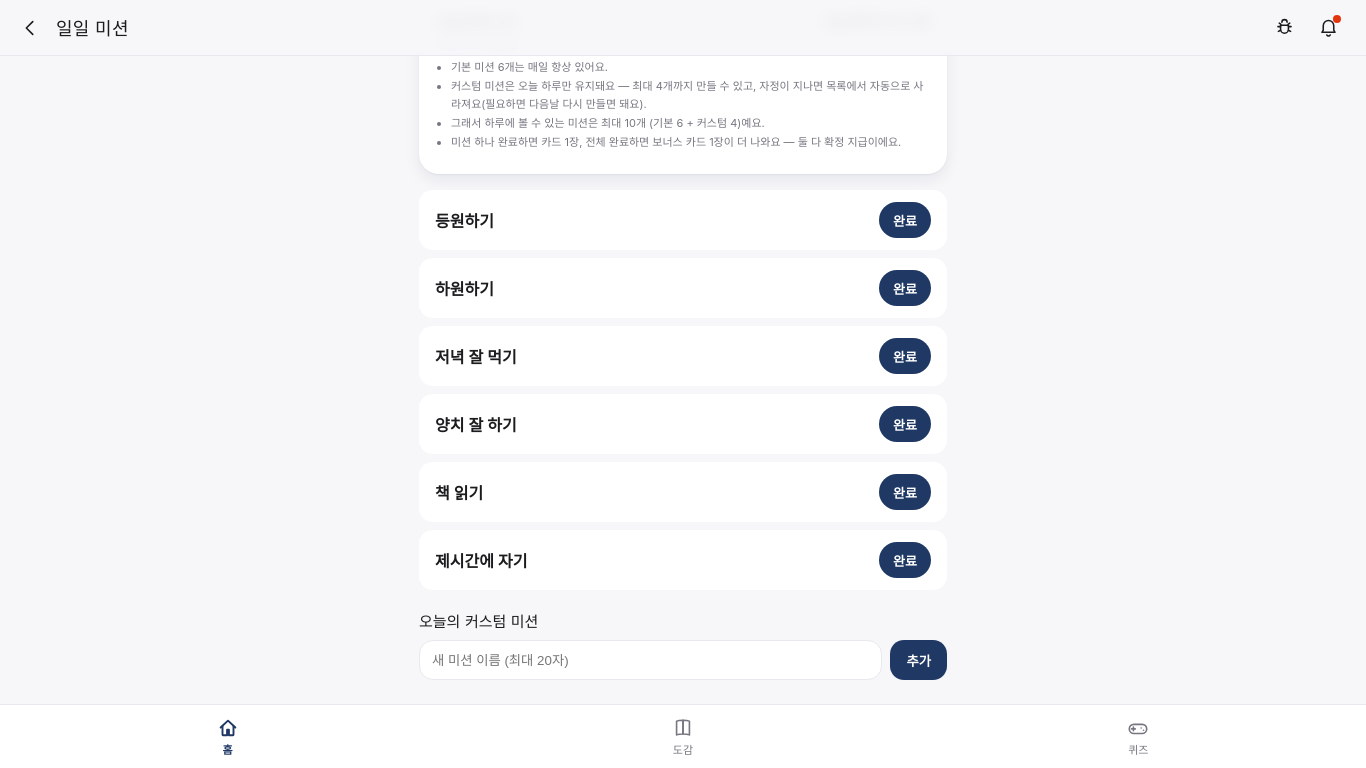
Test: DailyMission › 커스텀 미션을 추가하고 삭제할 수 있다
The image size is (1366, 768).
(page scrolled)
Expected: the text "등원하기" is shown, [435,211,494,231]
Type "숙제하기" into the field with placeholder "새 미션 이름 (최대 20자)" at (651,660), box [419,640,882,680]
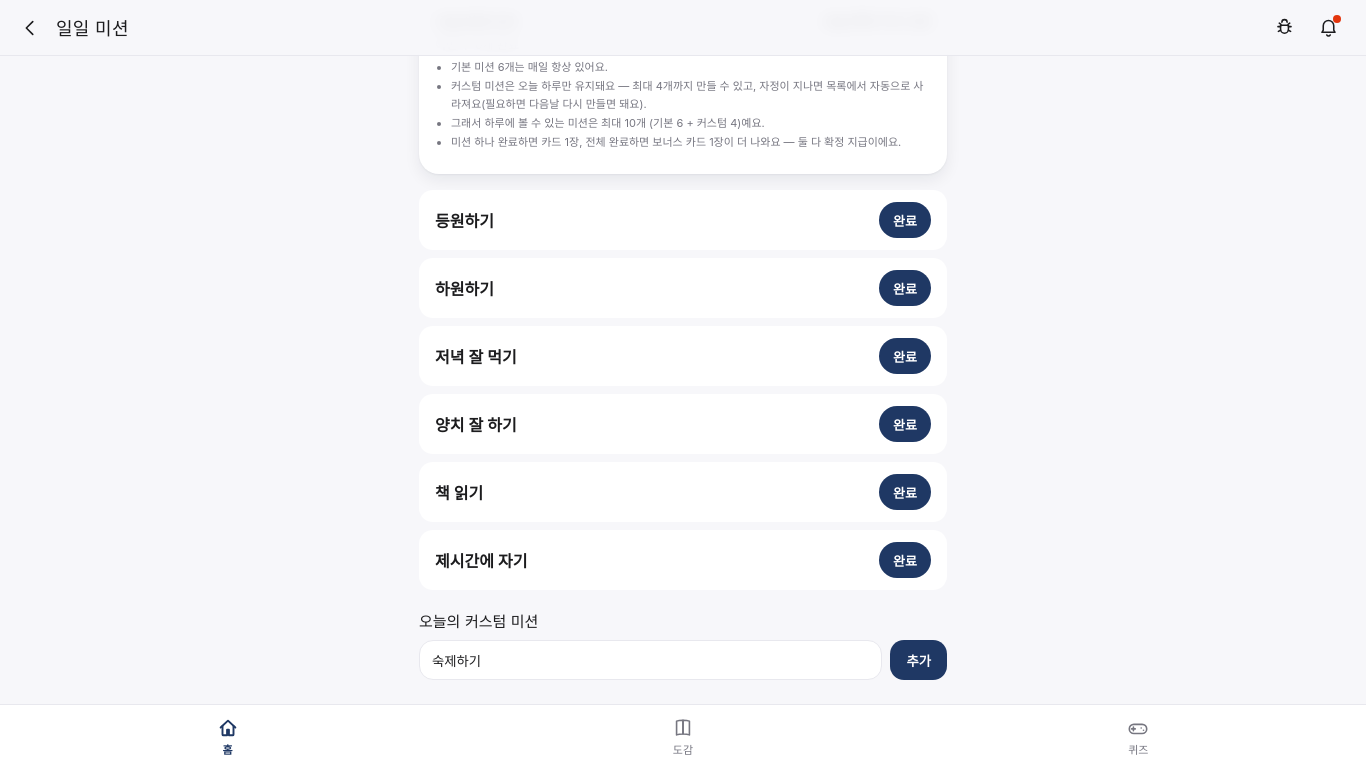
Submit the form "추가", box [419,640,947,680]
(page scrolled)
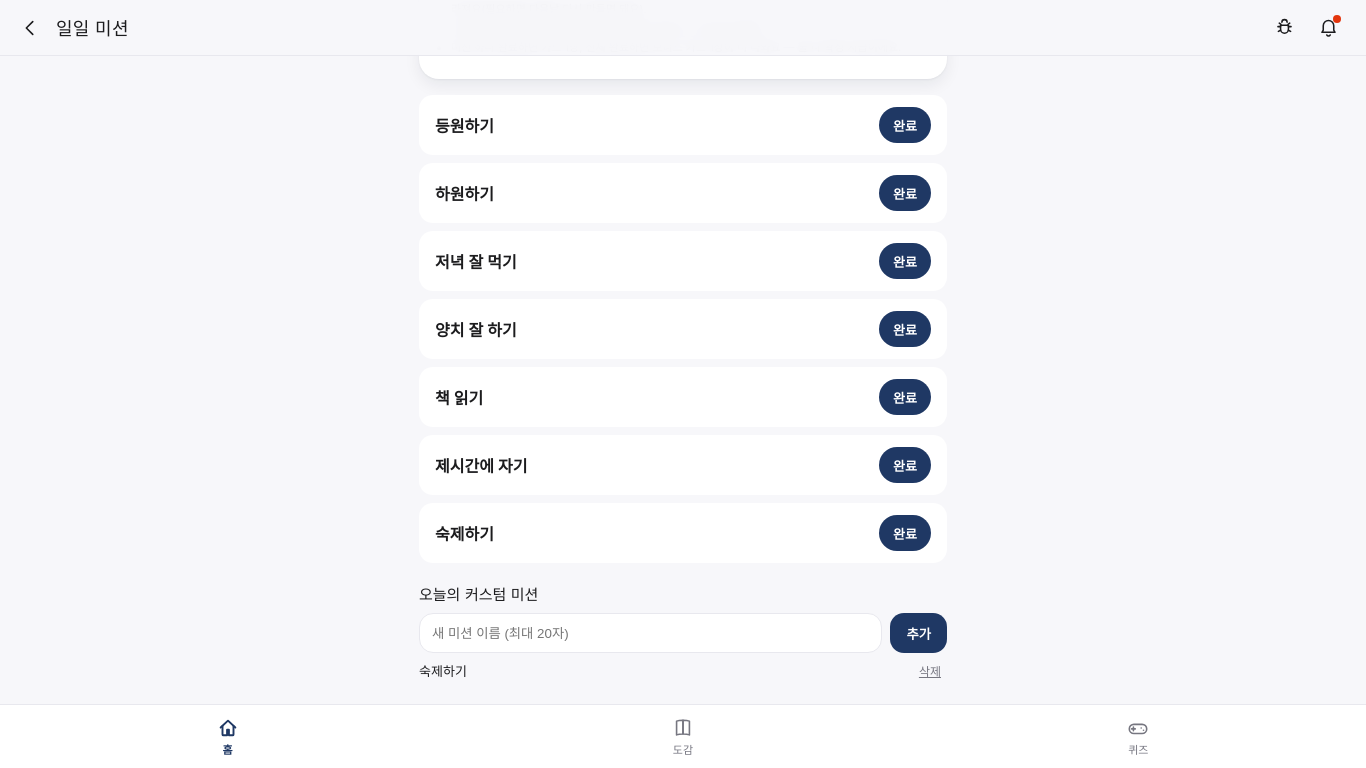
Result: the text "숙제하기" is shown 2 times at [435,524,494,544]; [419,663,467,679]
Click the button "삭제" at (930,671), box [913,661,947,680]
(page scrolled)
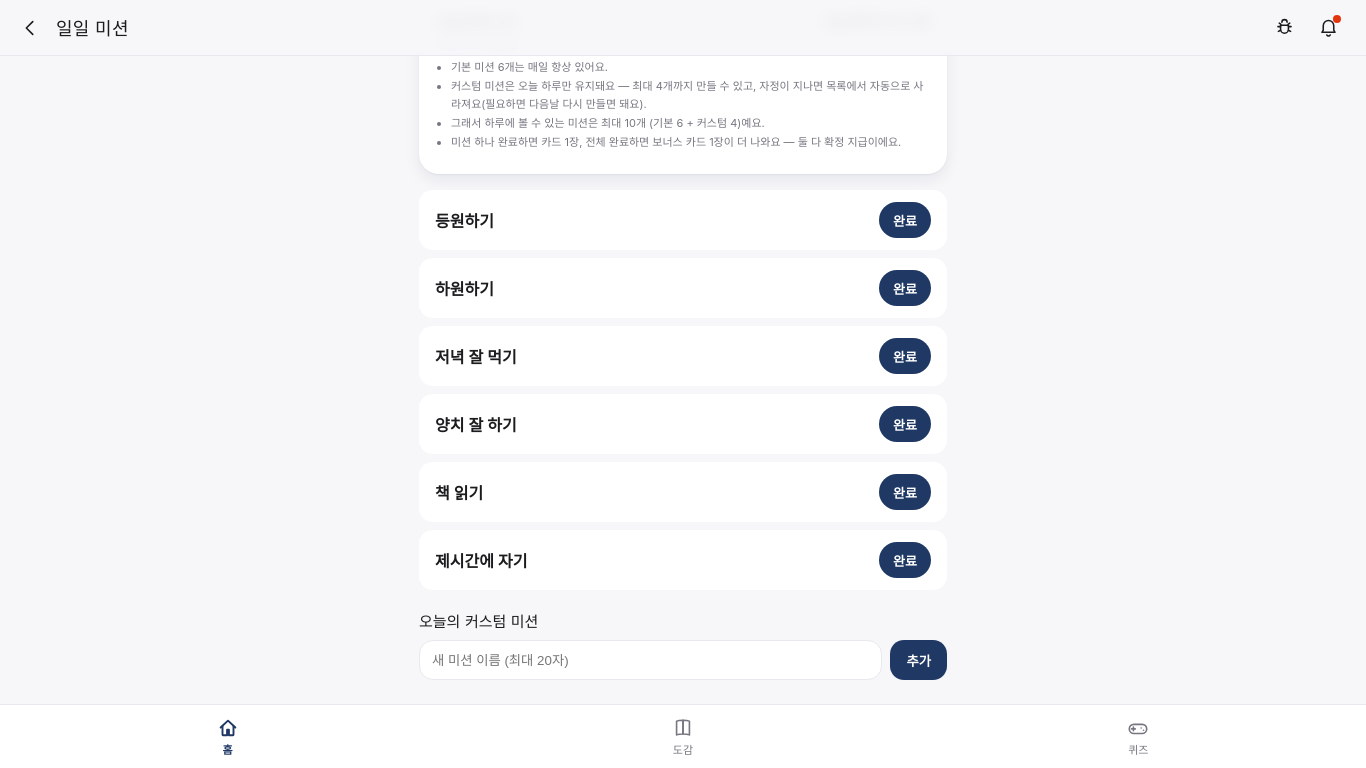
Result: the text "숙제하기" is gone
